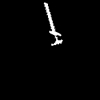double_crochet: (44, 3, 61, 44)
